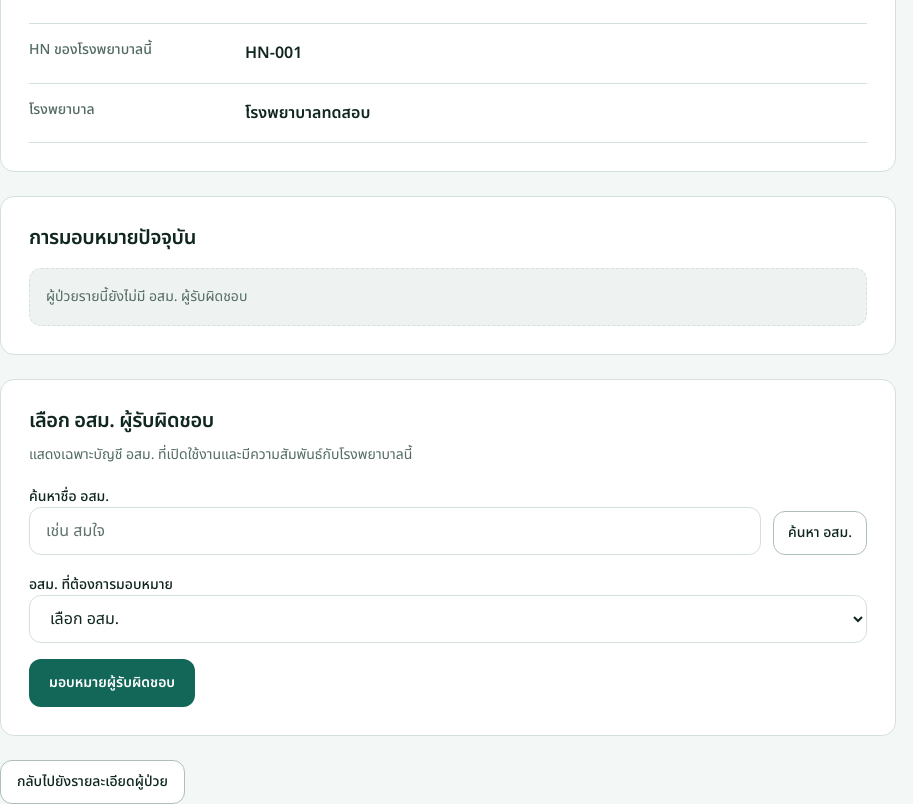
single OSM assignment feedback › treats returned UNAVAILABLE as unconfirmed: no Toast, no refresh, controls locked
(page scrolled)
Select "สมหมาย อสม." in the dropdown labelled "อสม. ที่ต้องการมอบหมาย" at (448, 619), box [29,595,867,643]
(page scrolled)
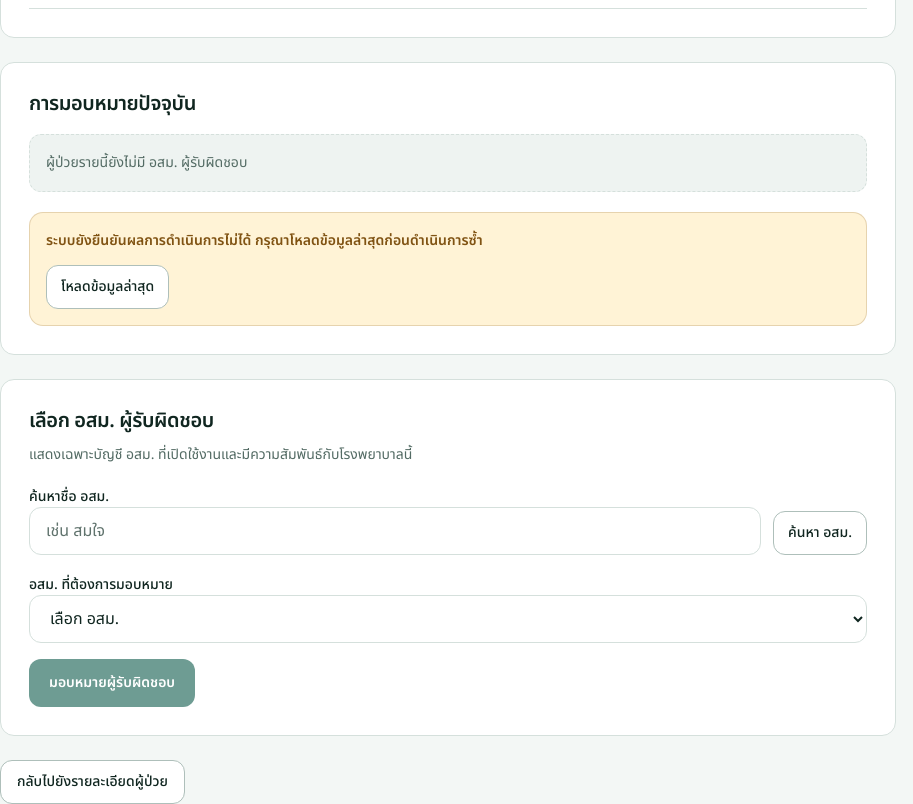
expect the text "ระบบยังยืนยันผลการดำเนินการไม่ได้" is shown: met, box [46,230,483,251]
expect the submit button is disabled: met, box [29,659,195,707]
